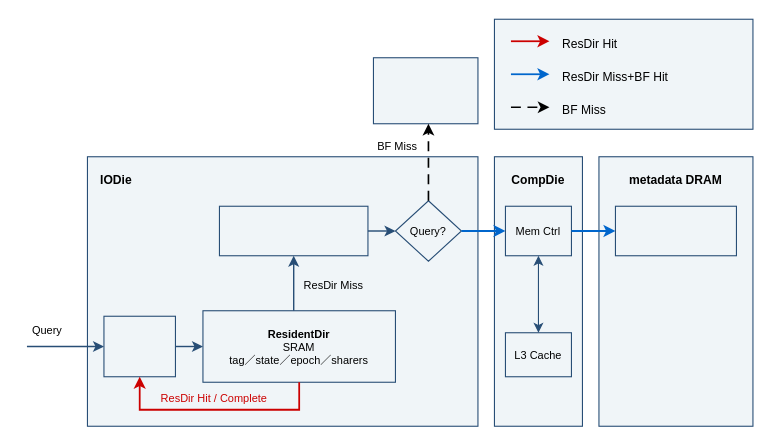
Some shapes in this 773 by 446 pixel diagram are drawn without their labels. The centre of each missing label's shape, as x and y in pixels:
"Bloom Grouped Bloom" belongs at [293,230].
"Drop Query No metadata DRAM access" belongs at [425,90].
"H64 Backstore" belongs at [675,230].
"Interconnect" belongs at [139,346].
